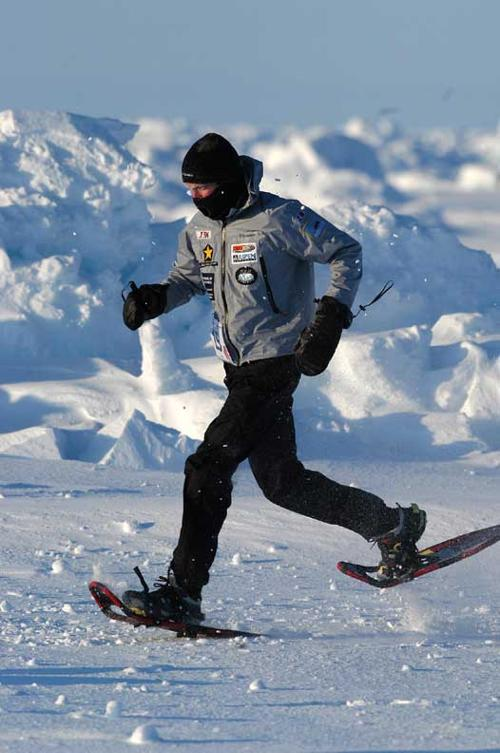person: (121, 134, 429, 626)
